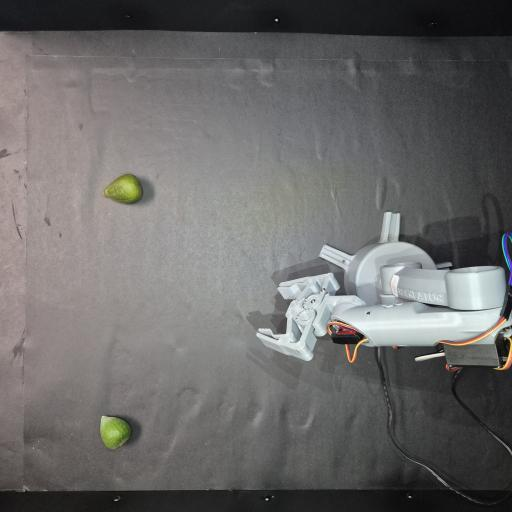higo: (104, 174, 143, 203), (100, 416, 131, 449)
